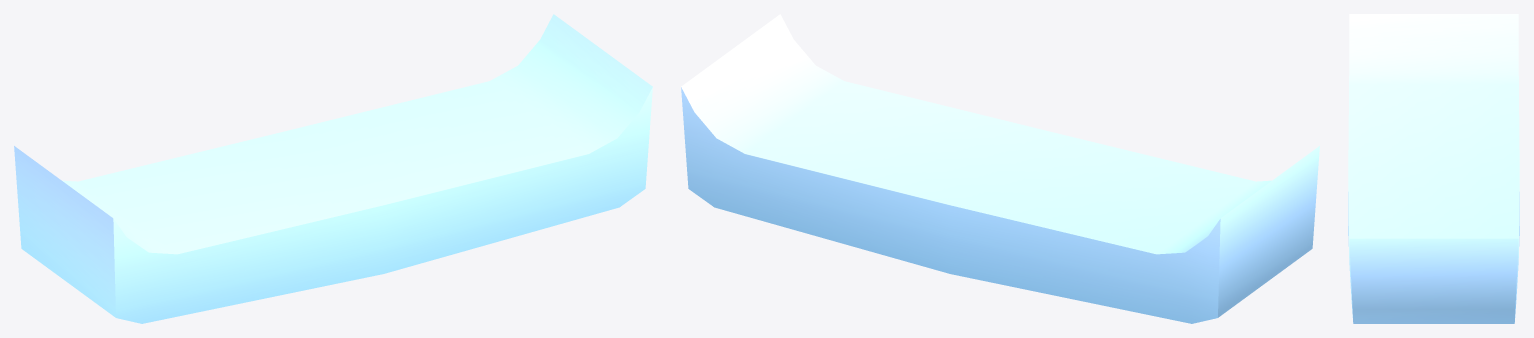
File: steel_guard_056.glb
3 views of the same model, side by side, from view 1: azimuth 30°, elevation 25°; view 2: azimuth 150°, elevation 25°; view 3: azimuth 270°, elevation 25° (orthographic). The views are drawn at different scales.
Visible parts, largest first — view 1: steel_guard_056; view 2: steel_guard_056; view 3: steel_guard_056.
Part boxes in pixels (<box>): steel_guard_056: <box>14,14,652,323</box>; steel_guard_056: <box>681,14,1319,323</box>; steel_guard_056: <box>1348,14,1519,323</box>.
Bounding box in the file's own units: 6.1 × 1.31 × 1.97.
Materials: 1 (1 with a texture image).
